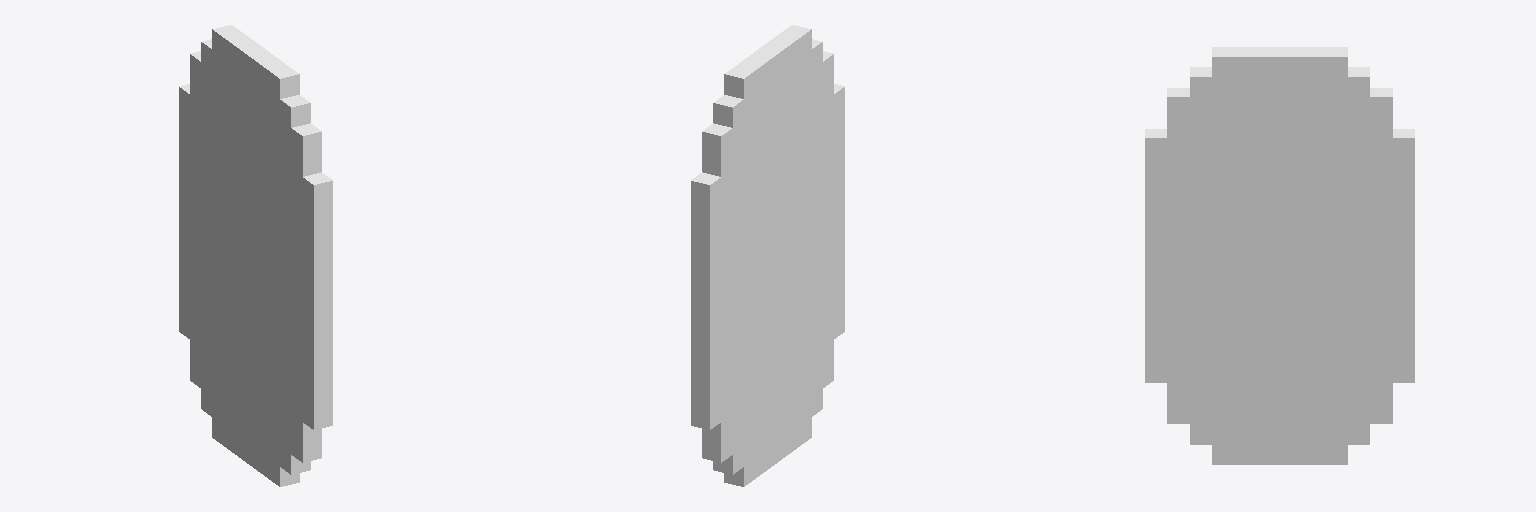
File: wall_mirror.obj
The picture shows the model from 3 angles: view 1: azimuth 30°, elevation 25°; view 2: azimuth 150°, elevation 25°; view 3: azimuth 270°, elevation 25°; orthographic projection.
Parts seen in each view (by area): view 1: wall_mirror; view 2: wall_mirror; view 3: wall_mirror.
Boxes of the visible parts, <box> form: wall_mirror: <box>179,25,332,486</box>; wall_mirror: <box>691,25,844,486</box>; wall_mirror: <box>1145,47,1414,464</box>.
Bounding box in the file's own units: 1 × 20 × 12.